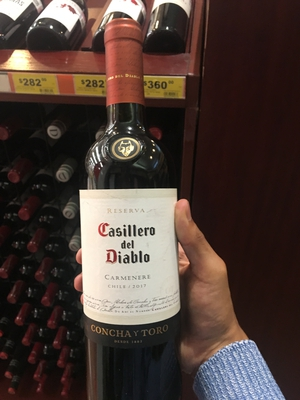casillero del diablo carmenere: (64, 27, 205, 388)
